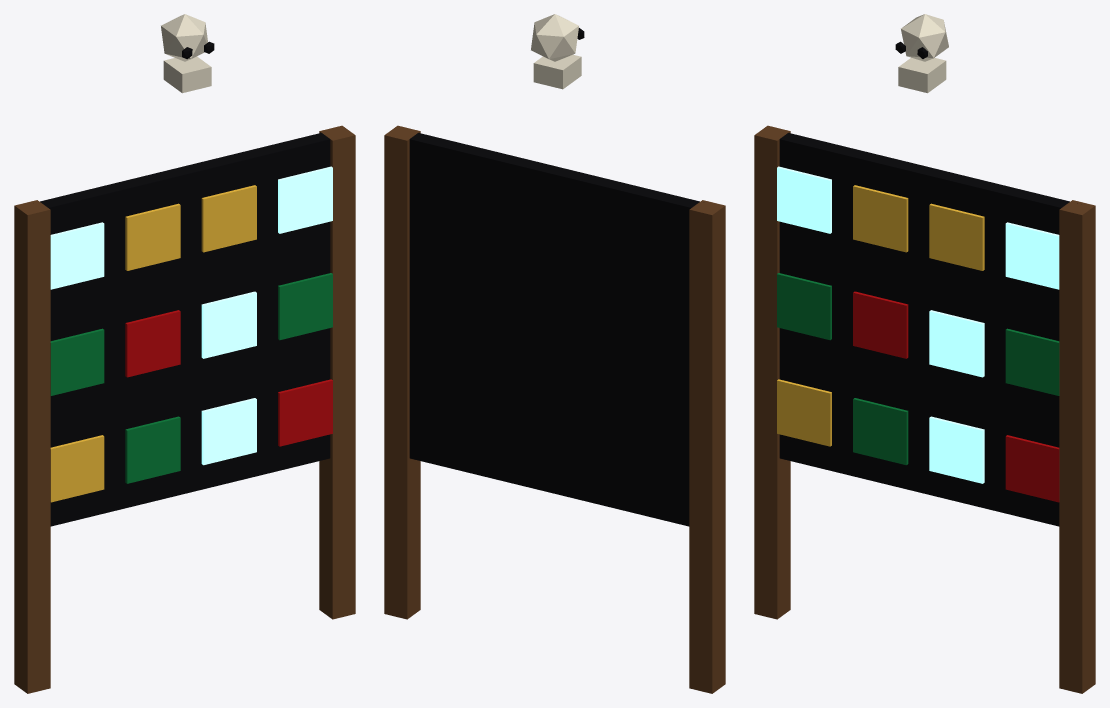
The model's file is Prop_OR_OddsBoard_04.glb.
3 renders of one model, left to right at view 1: azimuth 30°, elevation 25°; view 2: azimuth 150°, elevation 25°; view 3: azimuth 330°, elevation 25°, orthographic.
Visible parts, largest first — view 1: Prop_OR_OddsBoard_04; view 2: Prop_OR_OddsBoard_04; view 3: Prop_OR_OddsBoard_04.
Part boxes in pixels (x1,y1,x2,y2): Prop_OR_OddsBoard_04: (14,14,355,693); Prop_OR_OddsBoard_04: (384,14,725,693); Prop_OR_OddsBoard_04: (754,14,1095,693).
Bounding box in the file's own units: 2.15 × 3.98 × 0.3057.
